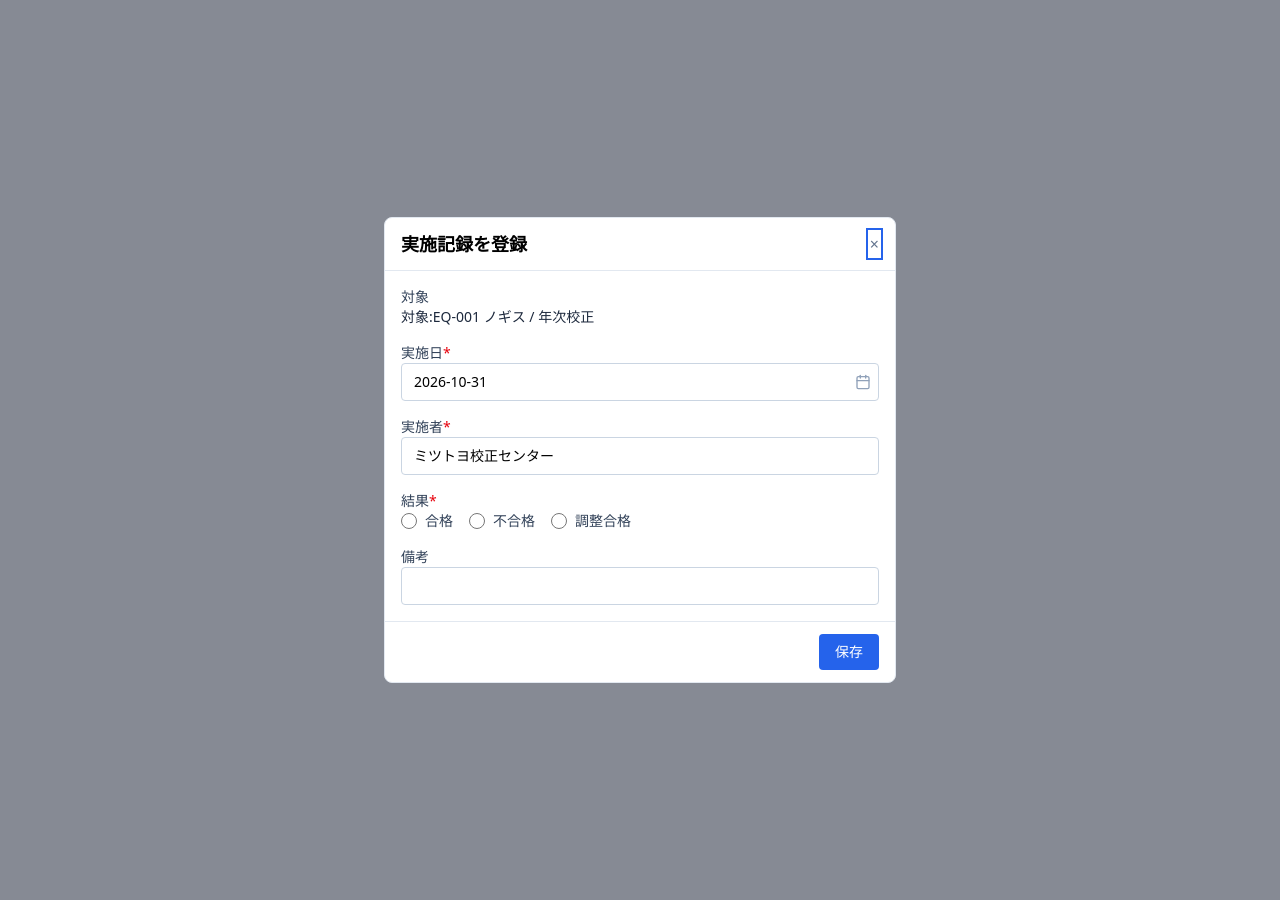
ServiceRecordModal › fail 選択時に「次回期限は更新されません」の注意書きが表示される
This screenshot has width=1280, height=900.
expect the text "次回期限は更新されません" is not shown: met
Click the radio button labelled "不合格": (477, 521) [469, 513, 485, 529]
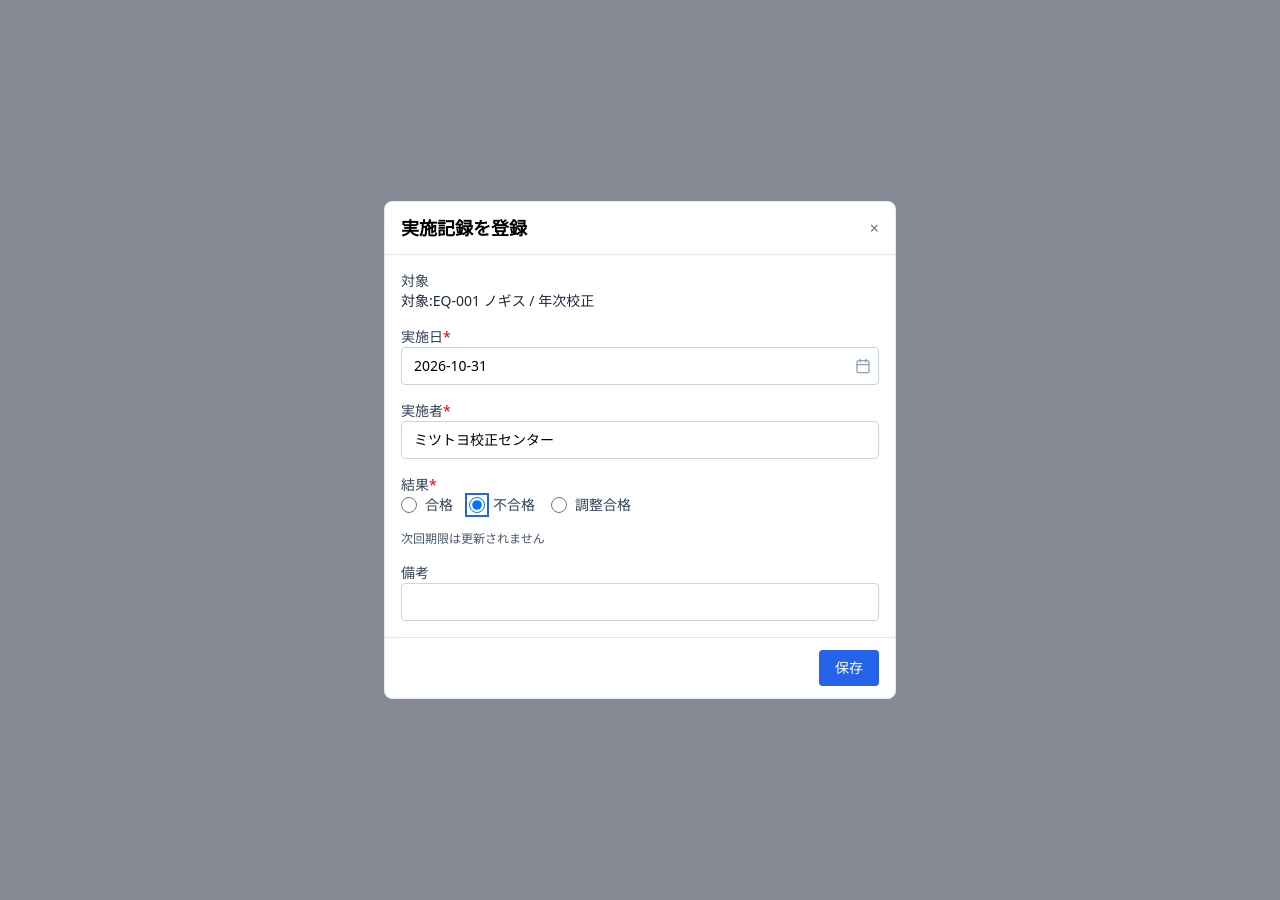
expect the text "次回期限は更新されません" is shown: met, box [401, 530, 545, 547]
